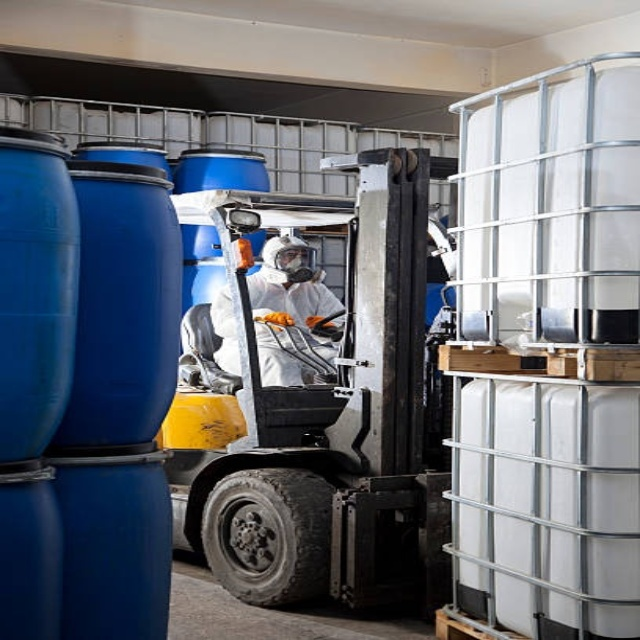Gafas: (280, 250, 307, 259)
Guantes: (256, 312, 294, 328), (305, 316, 336, 330)
Mascara: (279, 255, 308, 273)
